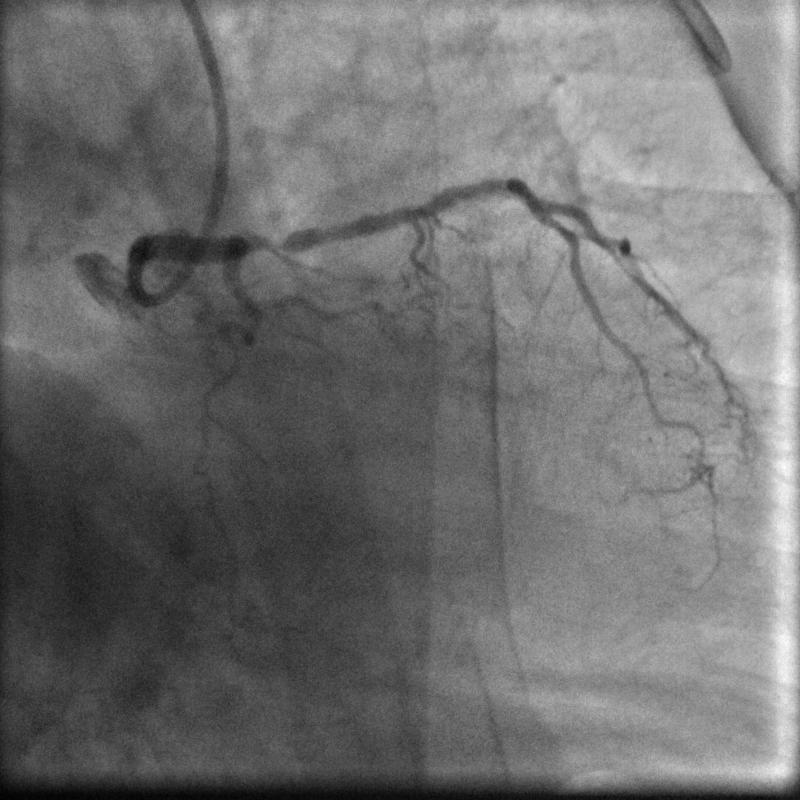Stenosis: (240, 225, 294, 260)
